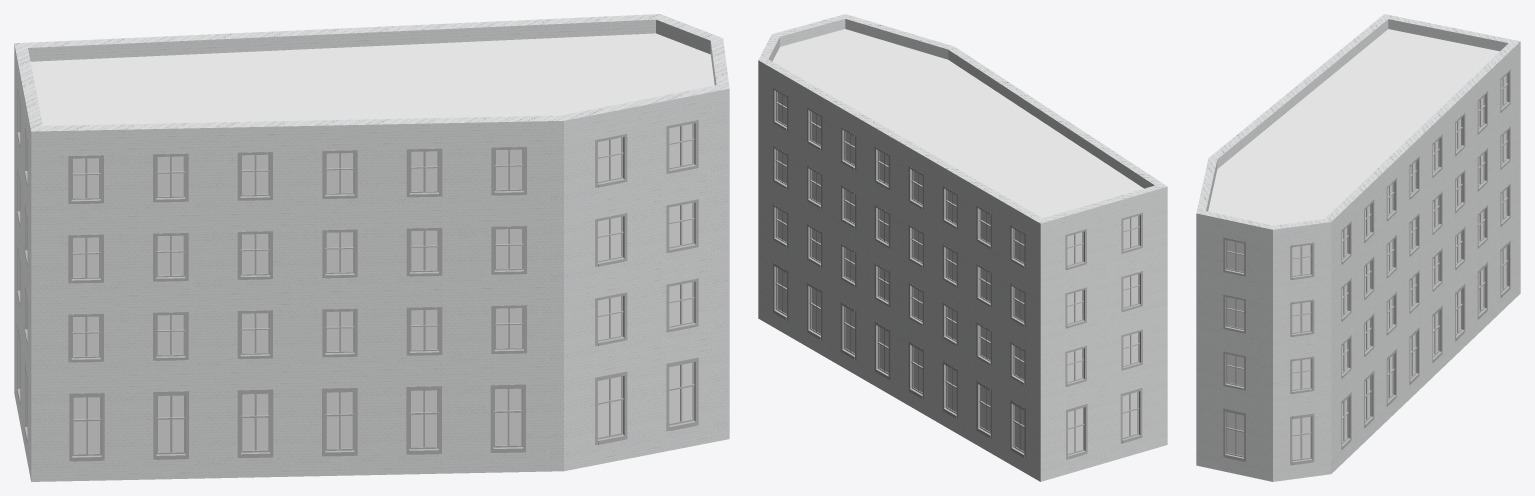
Rendered from clohbln3302pt4p024ndxj5rg_0.glb.
The picture shows the model from 3 angles, left to right: view 1: azimuth 30°, elevation 25°; view 2: azimuth 150°, elevation 25°; view 3: azimuth 270°, elevation 25°; orthographic projection. The views are drawn at different scales.
Visible parts, largest first — view 1: mesh_Brick, mesh_CityEnginePBRShader, mesh_Glass, mesh_Rim; view 2: mesh_Brick, mesh_CityEnginePBRShader, mesh_Rim, mesh_Glass; view 3: mesh_Brick, mesh_CityEnginePBRShader, mesh_Rim, mesh_Glass.
Part boxes in pixels (left/top/right/bottom): mesh_Brick: left=14, top=14, right=729, bottom=481; mesh_CityEnginePBRShader: left=30, top=33, right=714, bottom=125; mesh_Glass: left=73, top=124, right=692, bottom=453; mesh_Rim: left=17, top=87, right=698, bottom=461; mesh_Brick: left=758, top=14, right=1167, bottom=481; mesh_CityEnginePBRShader: left=772, top=29, right=1143, bottom=217; mesh_Rim: left=773, top=87, right=1142, bottom=459; mesh_Glass: left=777, top=92, right=1138, bottom=453; mesh_Brick: left=1196, top=14, right=1520, bottom=481; mesh_CityEnginePBRShader: left=1208, top=29, right=1499, bottom=225; mesh_Rim: left=1223, top=69, right=1510, bottom=465; mesh_Glass: left=1227, top=75, right=1506, bottom=459.
Size of the model in its own units: 27.95 by 15.23 by 17.75.
4 materials, 1 textured.
